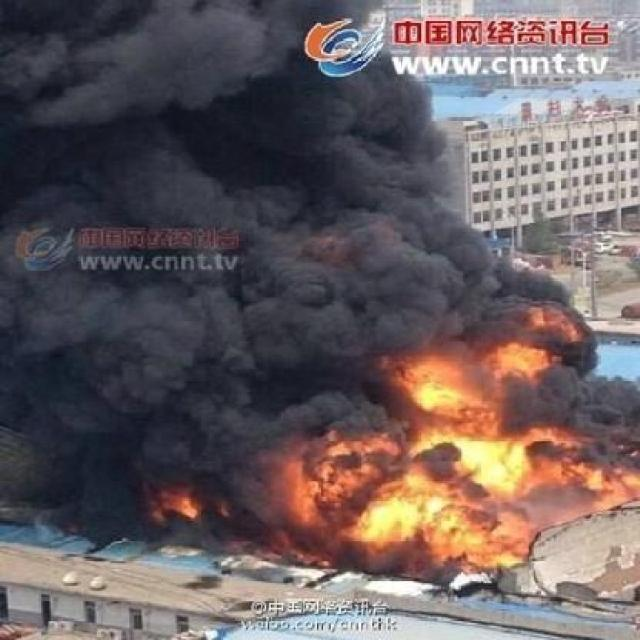Fire: (302, 314, 640, 573), (141, 482, 209, 522)
Smoke: (10, 21, 301, 472), (306, 74, 550, 316)
